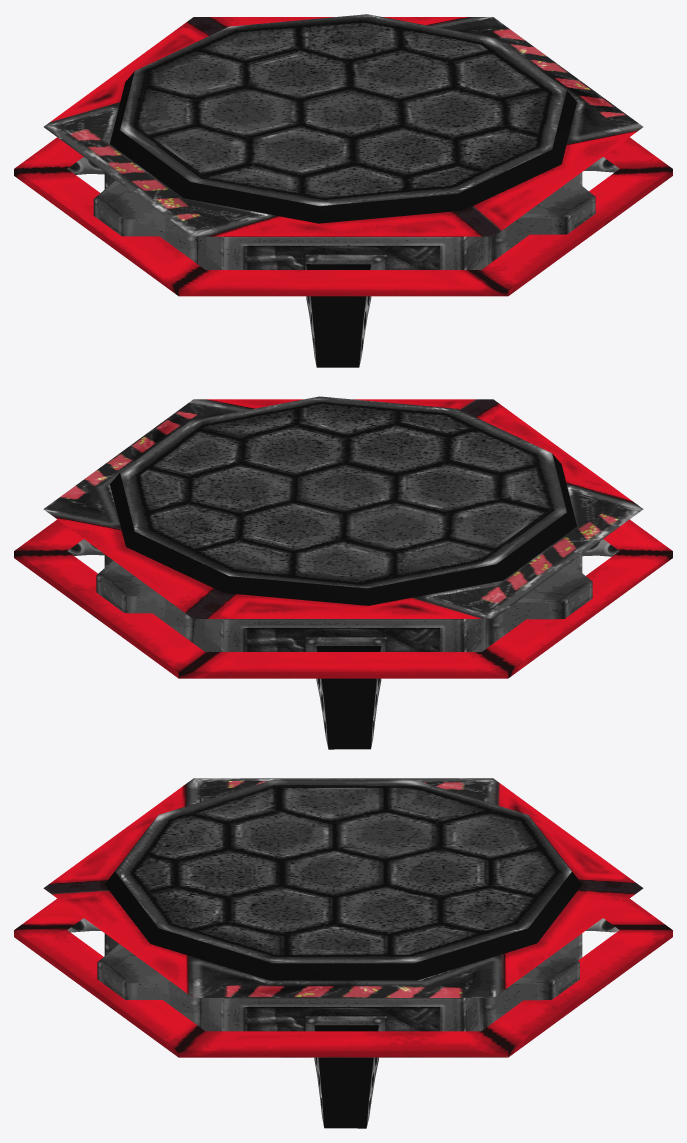
Rendered from teleporter.glb.
The picture shows the model from 3 angles, top to bottom: view 1: azimuth 30°, elevation 25°; view 2: azimuth 150°, elevation 25°; view 3: azimuth 270°, elevation 25°; orthographic projection.
Visible parts, largest first — view 1: teleporter; view 2: teleporter; view 3: teleporter.
Boxes of the visible parts, left/top/right/bottom form: teleporter: left=14, top=14, right=672, bottom=367; teleporter: left=14, top=396, right=672, bottom=749; teleporter: left=14, top=778, right=672, bottom=1128.
Bounding box in the file's own units: 53.79 × 11.48 × 57.84.
Materials: 2 (2 with a texture image).
